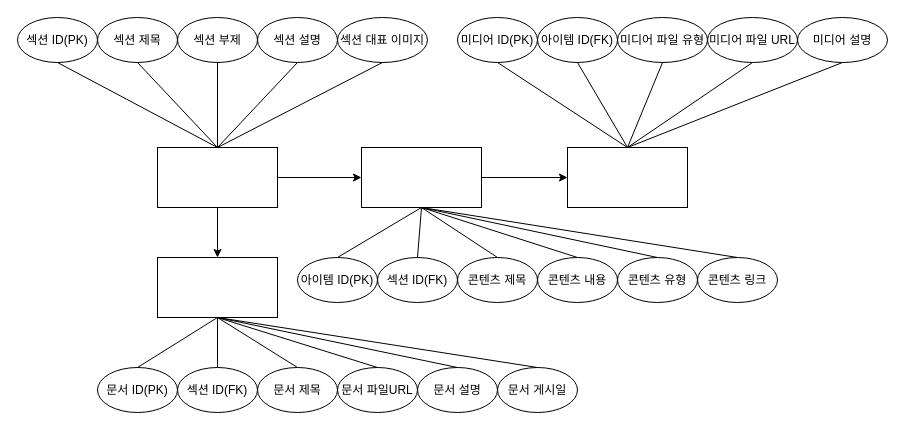
This 905x430 diagram has some shape labels left out. Each missing label, with the centre of its shape:
"문서" goes at (x=217, y=287).
"미디어" goes at (x=627, y=177).
"섹션" goes at (x=217, y=177).
"콘텐츠" goes at (x=421, y=177).
